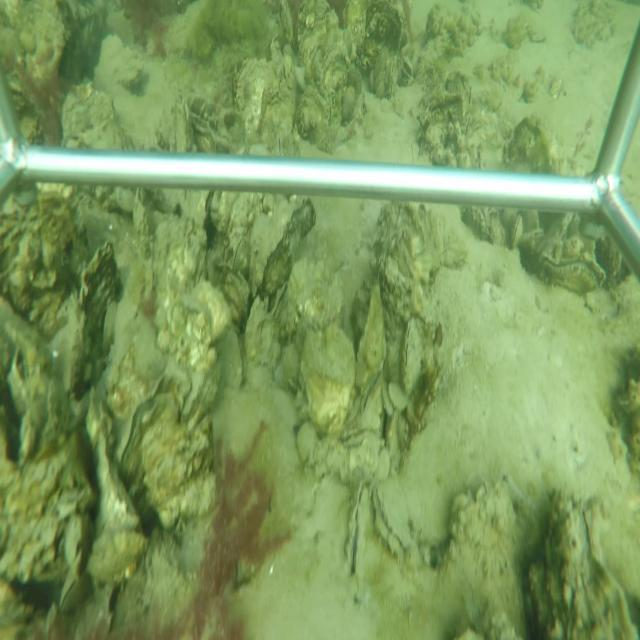Oyster-Closed: (250, 194, 320, 296), (91, 409, 141, 537), (535, 249, 607, 292), (401, 313, 426, 398), (217, 324, 249, 388), (353, 372, 383, 426), (169, 92, 192, 153), (58, 571, 86, 611), (334, 429, 385, 449), (509, 214, 524, 248)
Oyster-Indeterminate: (301, 323, 356, 433), (356, 286, 390, 389)
Oyster-Open: (116, 372, 184, 481), (372, 475, 413, 569), (345, 484, 370, 609)
